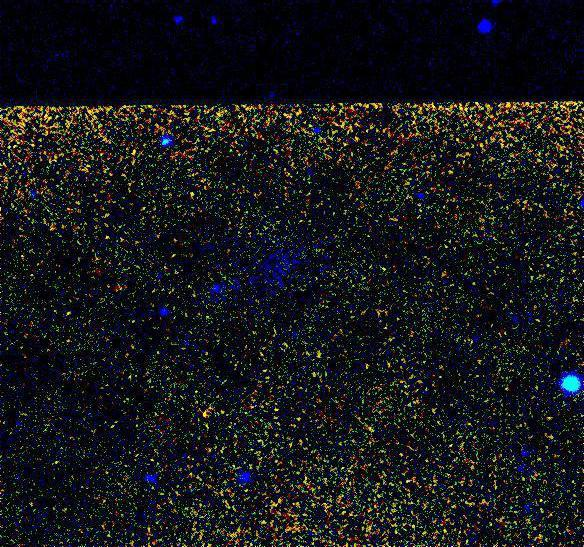star: (194, 402, 224, 432)
